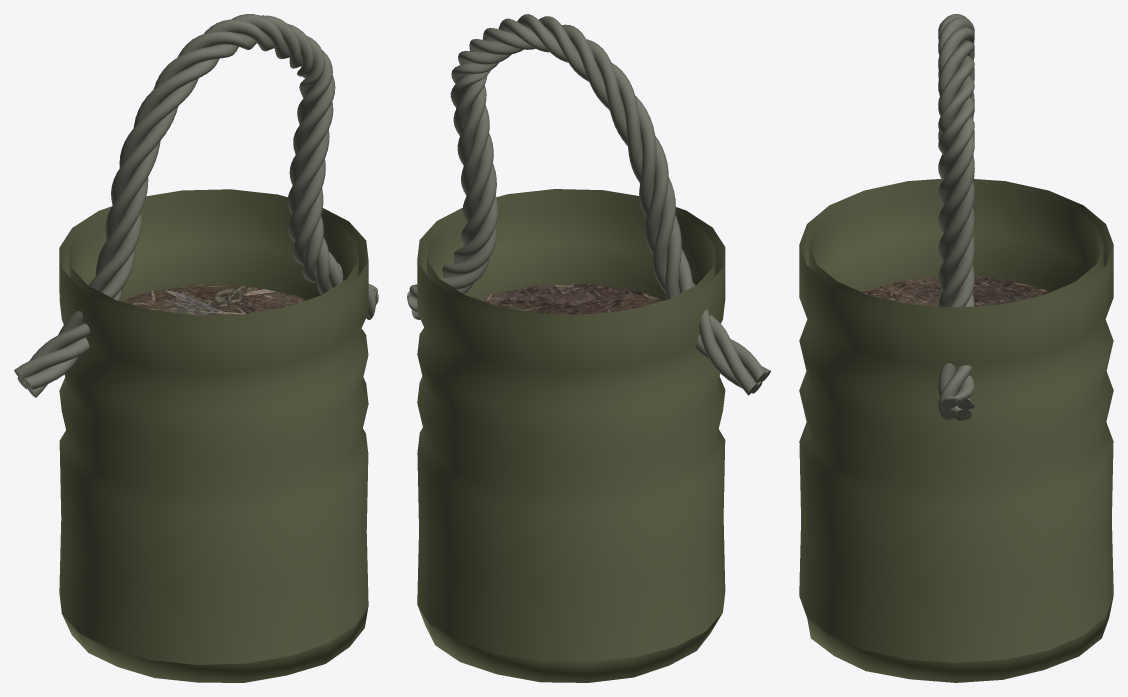
Rendered from PlantBottle.fbx.
The picture shows the model from 3 angles, left to right: view 1: azimuth 30°, elevation 25°; view 2: azimuth 150°, elevation 25°; view 3: azimuth 270°, elevation 25°; orthographic projection. The views are drawn at different scales.
Parts seen in each view (by area): view 1: polySurface5, pCylinder5, pCylinder6; view 2: polySurface5, pCylinder5, pCylinder6; view 3: polySurface5, pCylinder5, pCylinder6.
Boxes of the visible parts, box(x1,y1,x2,y2) form: polySurface5: box(59, 189, 368, 682); pCylinder5: box(14, 14, 378, 397); pCylinder6: box(121, 284, 305, 315); polySurface5: box(417, 189, 725, 682); pCylinder5: box(407, 14, 770, 395); pCylinder6: box(479, 284, 663, 314); polySurface5: box(799, 179, 1113, 682); pCylinder5: box(938, 14, 974, 420); pCylinder6: box(862, 277, 1050, 306).
Bounding box in the file's own units: 8.27 × 13.4 × 6.19.
